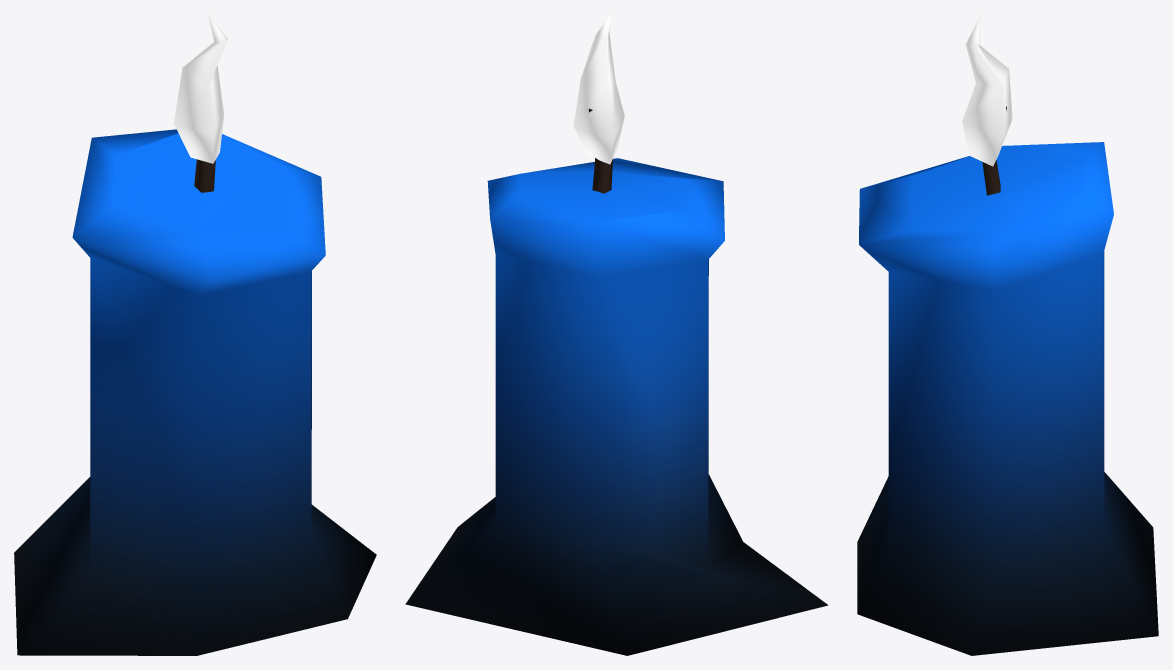
Rendered from CandleShapeD.052.glb.
The picture shows the model from 3 angles, left to right: view 1: azimuth 30°, elevation 25°; view 2: azimuth 150°, elevation 25°; view 3: azimuth 270°, elevation 25°; orthographic projection. The views are drawn at different scales.
Parts seen in each view (by area): view 1: CandleShapeD.052; view 2: CandleShapeD.052; view 3: CandleShapeD.052.
Boxes of the visible parts, x1,y1,x2,y2 form: CandleShapeD.052: (14, 15, 376, 655); CandleShapeD.052: (405, 14, 828, 655); CandleShapeD.052: (857, 14, 1158, 655).
Size of the model in its own units: 0.1822 by 0.2697 by 0.1308.
Materials: 2 (2 with a texture image).
